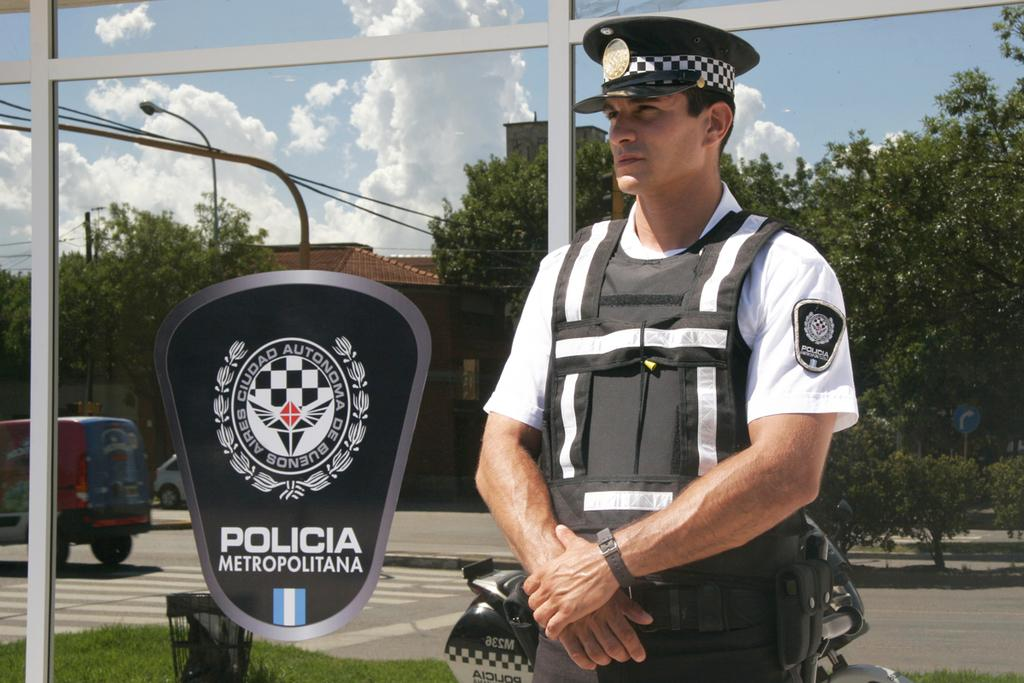Hat: (570, 19, 758, 117)
